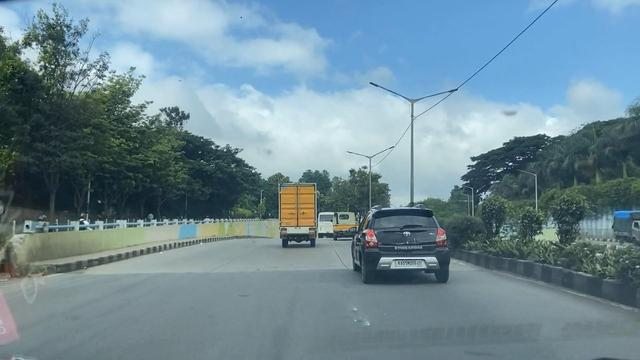HMV: (276, 186, 313, 246)
LMV: (348, 209, 442, 285)
